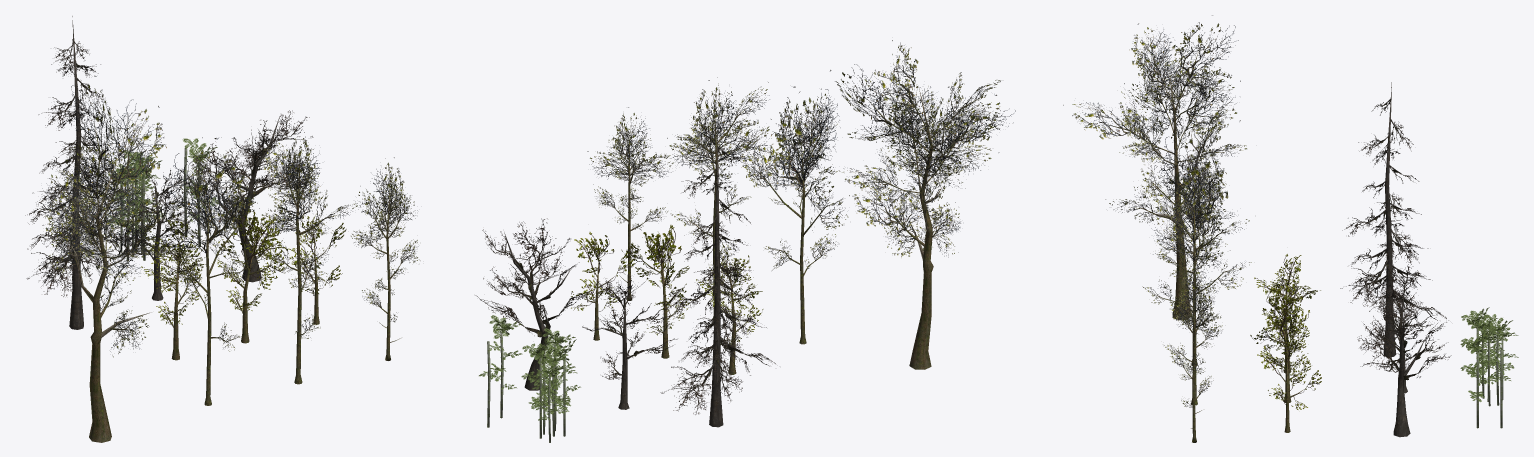
The model's file is arboles.glb.
3 renders of one model, left to right at view 1: azimuth 30°, elevation 25°; view 2: azimuth 150°, elevation 25°; view 3: azimuth 270°, elevation 25°, orthographic. The views are drawn at different scales.
Visible parts, largest first — view 1: Rama-material (×4), Rama_002-material (×3), bark_brown-material (×6), Rama_001-material (×3), rough_wood-material (×3), Hojas-material (×2), Bambu-material; view 2: Rama-material (×4), Rama_002-material (×3), bark_brown-material (×4), Rama_001-material (×3), rough_wood-material (×3), Hojas-material (×2), Bambu-material; view 3: Rama-material (×4), Rama_002-material (×3), Rama_001-material (×3), bark_brown-material (×4), rough_wood-material (×2), Hojas-material (×2), Bambu-material.
Part boxes in pixels (left/top/right/bottom): Rama-material (×4): left=42, top=75, right=420, bottom=357; Rama_002-material (×3): left=25, top=39, right=319, bottom=296; bark_brown-material (×6): left=61, top=125, right=404, bottom=442; Rama_001-material (×3): left=141, top=209, right=346, bottom=324; rough_wood-material (×3): left=54, top=16, right=280, bottom=329; Hojas-material (×2): left=107, top=138, right=218, bottom=234; Bambu-material: left=120, top=169, right=145, bottom=261; Rama-material (×4): left=587, top=40, right=1015, bottom=271; Rama_002-material (×3): left=475, top=148, right=775, bottom=414; bark_brown-material (×4): left=612, top=76, right=979, bottom=369; Rama_001-material (×3): left=571, top=225, right=763, bottom=347; rough_wood-material (×3): left=504, top=127, right=745, bottom=427; Hojas-material (×2): left=479, top=315, right=580, bottom=420; Bambu-material: left=539, top=344, right=565, bottom=442; Rama-material (×4): left=1063, top=15, right=1251, bottom=407; Rama_002-material (×3): left=1340, top=100, right=1451, bottom=380; Rama_001-material (×3): left=1250, top=254, right=1321, bottom=409; bark_brown-material (×4): left=1102, top=51, right=1238, bottom=442; rough_wood-material (×2): left=1369, top=82, right=1426, bottom=437; Hojas-material (×2): left=1460, top=307, right=1518, bottom=401; Bambu-material: left=1476, top=327, right=1503, bottom=406.
Size of the model in its own units: 14.68 by 11.73 by 15.53.
7 materials, 7 textured.
